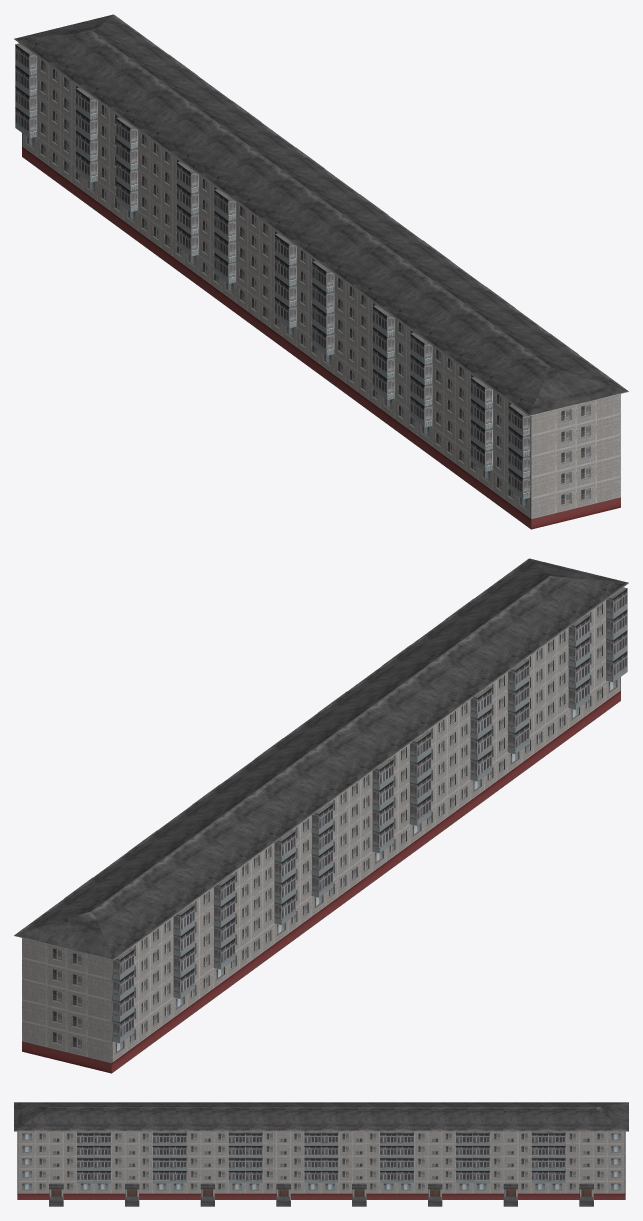
File: PanelHouse.fbx
The picture shows the model from 3 angles, top to bottom: view 1: azimuth 30°, elevation 25°; view 2: azimuth 150°, elevation 25°; view 3: azimuth 270°, elevation 25°; orthographic projection. The views are drawn at different scales.
Parts seen in each view (by area): view 1: Plane.001; view 2: Plane.001; view 3: Plane.001.
Boxes of the visible parts, box(x1,y1,x2,y2) form: Plane.001: box(14, 14, 628, 529); Plane.001: box(14, 558, 628, 1073); Plane.001: box(14, 1102, 628, 1206).
Bounding box in the file's own units: 2410 × 2540 × 17860.
